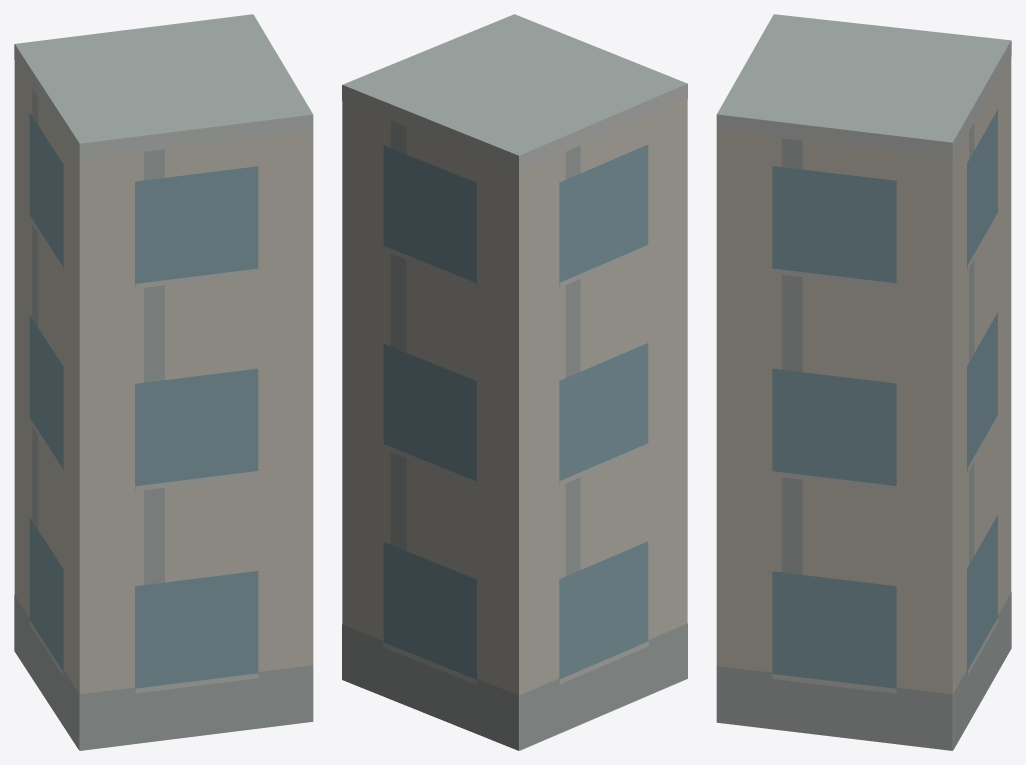
File: survey-upis-33027999.glb
3 renders of one model, left to right at view 1: azimuth 30°, elevation 25°; view 2: azimuth 150°, elevation 25°; view 3: azimuth 270°, elevation 25°, orthographic. The views are drawn at different scales.
Parts seen in each view (by area): view 1: survey-upis-33027999.tmp; view 2: survey-upis-33027999.tmp; view 3: survey-upis-33027999.tmp.
Part boxes in pixels (x1,y1,x2,y2): survey-upis-33027999.tmp: (14,14,313,750); survey-upis-33027999.tmp: (342,14,687,750); survey-upis-33027999.tmp: (716,14,1011,750).
Bounding box in the file's own units: 4.16 × 9.15 × 4.03.
